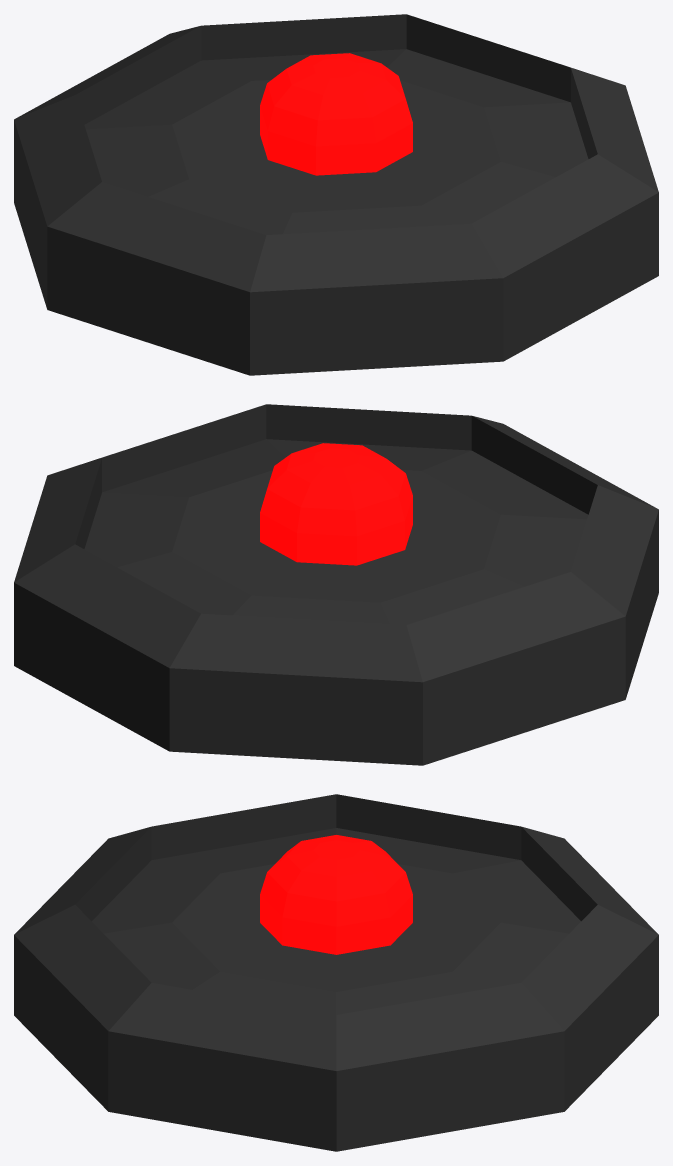
The model's file is mayin.fbx.
3 views of the same model, one above another, from view 1: azimuth 30°, elevation 25°; view 2: azimuth 150°, elevation 25°; view 3: azimuth 270°, elevation 25° (orthographic). The views are drawn at different scales.
Visible parts, largest first — view 1: Cylinder; view 2: Cylinder; view 3: Cylinder.
Part boxes in pixels (<box>): Cylinder: <box>14,14,658,375</box>; Cylinder: <box>14,404,658,765</box>; Cylinder: <box>14,794,658,1151</box>.
Bounding box in the file's own units: 180 × 50.98 × 180.
